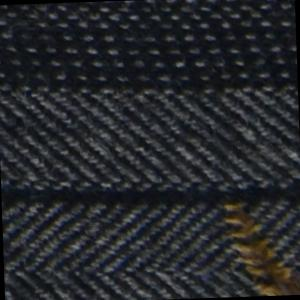Damage: (251, 244, 299, 298)
Oil Stain: (215, 194, 300, 298)
